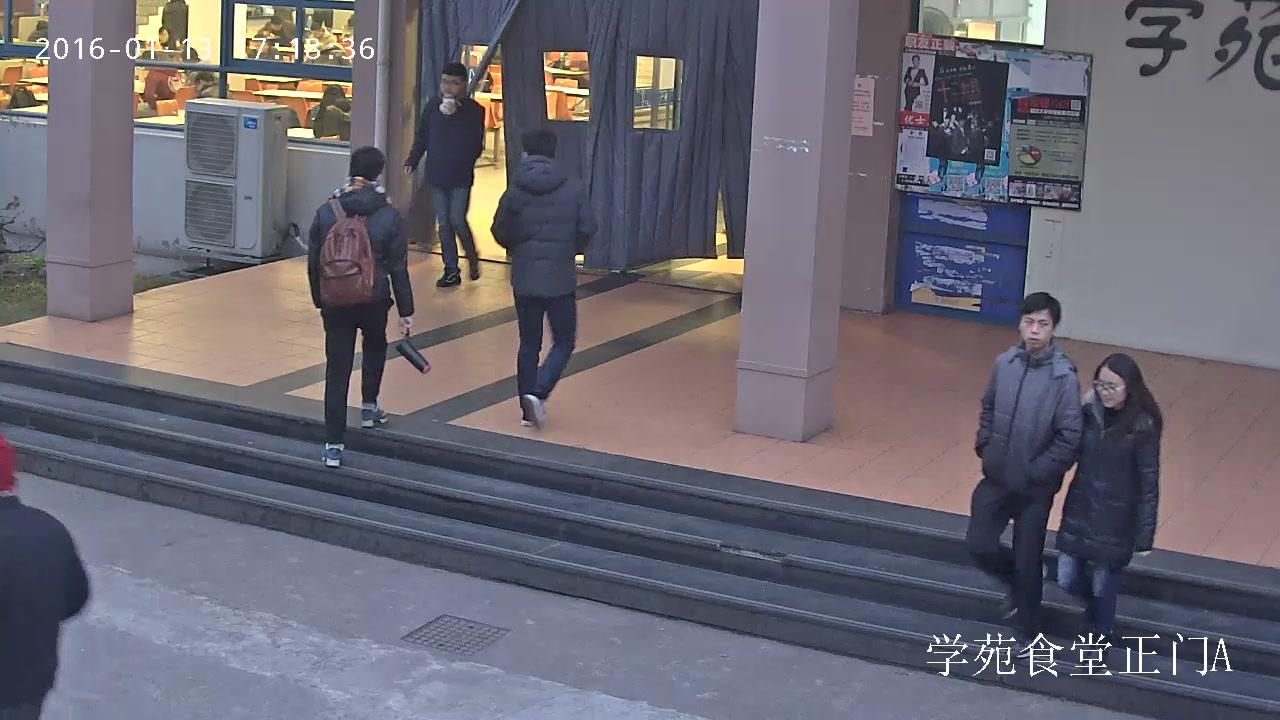person: (965, 290, 1082, 658), (308, 145, 431, 468), (1057, 352, 1162, 674), (490, 129, 598, 428), (1, 428, 88, 720), (403, 64, 486, 287), (311, 84, 350, 139), (903, 54, 927, 111), (253, 15, 296, 46), (160, 0, 187, 49)
